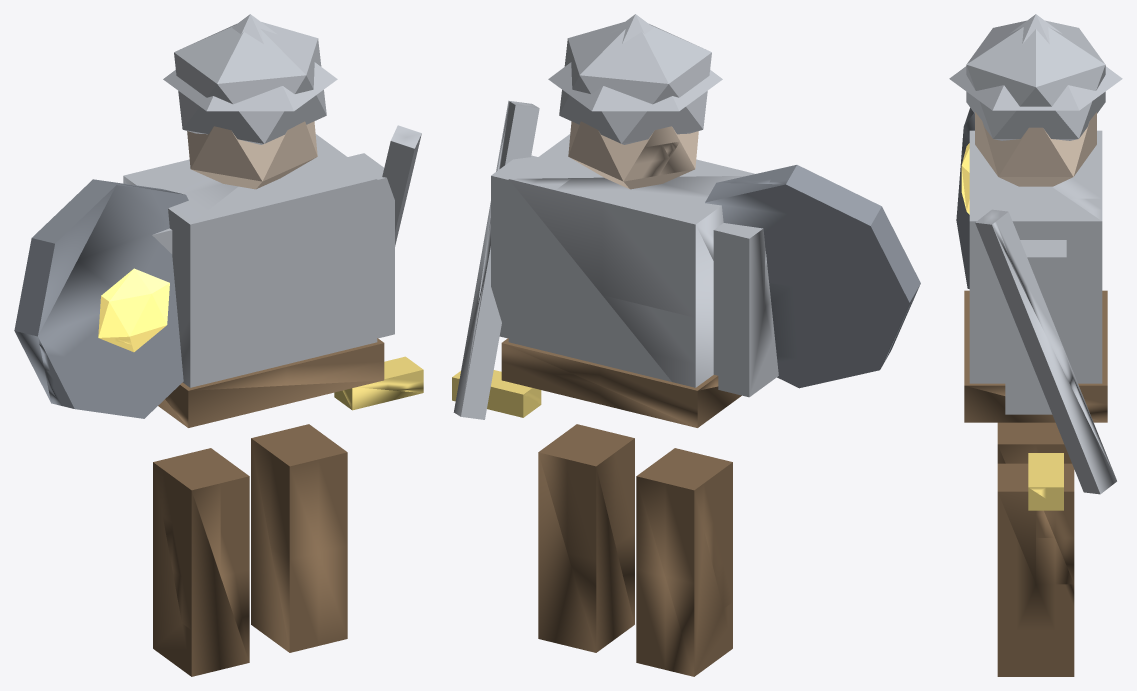
The model's file is knight.glb.
The picture shows the model from 3 angles, left to right: view 1: azimuth 30°, elevation 25°; view 2: azimuth 150°, elevation 25°; view 3: azimuth 270°, elevation 25°; orthographic projection.
Parts seen in each view (by area): view 1: SettlerLegL; view 2: SettlerLegL; view 3: SettlerLegL.
Boxes of the visible parts, x1=… form: SettlerLegL: x1=14, y1=14, x2=423, y2=676; SettlerLegL: x1=452, y1=14, x2=920, y2=676; SettlerLegL: x1=949, y1=14, x2=1122, y2=676.
Bounding box in the file's own units: 0.9521 × 1.35 × 0.34.
